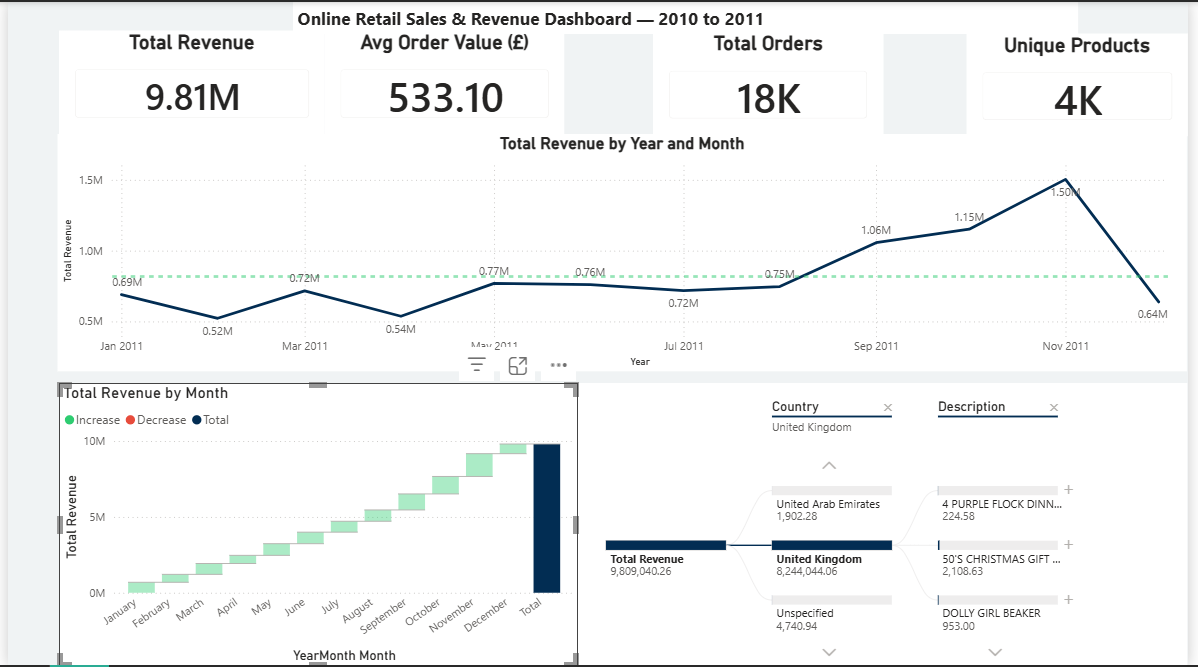

Layout of this report page (visuals, bound fields, positions):
{"tool":"powerbi","page":{"name":"Page 1","canvas":[1280,720],"ordinal":0},"visuals":[{"type":"cardVisual","title":"Total Revenue","fields":{"Data":["Sum(clean_retail.Revenue)"]},"box":[54.7,31.5,288.2,112.6],"z":0},{"type":"cardVisual","title":"Avg Order Value (£)","fields":{"Data":["clean_retail.Avg Order Value"]},"box":[342.9,31.5,260.1,112.6],"z":1000},{"type":"cardVisual","title":"Total Orders","fields":{"Data":["clean_retail.Total Orders"]},"box":[700.2,32.2,249.9,111.3],"z":2000},{"type":"cardVisual","title":"Unique Products","fields":{"Data":["clean_retail.Unique Products"]},"box":[1039.2,34.6,240,111.3],"z":3000},{"type":"lineChart","fields":{"Y":["clean_retail.Total Revenue"],"Category":["clean_retail.YearMonth.Variation.Date Hierarchy.Year","clean_retail.YearMonth.Variation.Date Hierarchy.Month"]},"box":[54.4,143.5,1224.8,257.3],"z":4000},{"type":"waterfallChart","fields":{"Y":["clean_retail.Total Revenue"],"Category":["clean_retail.YearMonth.Variation.Date Hierarchy.Month"]},"box":[54.7,412.5,563.2,308.1],"z":5000},{"type":"decompositionTreeVisual","fields":{"Analyze":["clean_retail.Total Revenue"],"ExplainBy":["clean_retail.Country","clean_retail.Description","clean_retail.CustomerType","clean_retail.YearMonth.Variation.Date Hierarchy.Year"]},"box":[618.6,413.2,660.6,306.8],"z":6000},{"type":"textbox","box":[309.3,0,851.1,34.6],"z":6001}]}

Visuals, with their boxes on the page's 1280x720 design canvas (x1, y1, x2, y2). These are canvas units, not pixel positions in the 1198x667 screenshot, which may show the page scaled, cropped or inside an application window:
"Total Revenue" cardVisual: (55, 32, 343, 144)
"Avg Order Value (£)" cardVisual: (343, 32, 603, 144)
"Total Orders" cardVisual: (700, 32, 950, 144)
"Unique Products" cardVisual: (1039, 35, 1279, 146)
lineChart - clean_retail.Total Revenue x clean_retail.YearMonth.Variation.Date Hierarchy.Year: (54, 144, 1279, 401)
waterfallChart - clean_retail.Total Revenue x clean_retail.YearMonth.Variation.Date Hierarchy.Month: (55, 412, 618, 721)
decompositionTreeVisual - clean_retail.Total Revenue x clean_retail.Country: (619, 413, 1279, 720)
textbox: (309, 0, 1160, 35)
